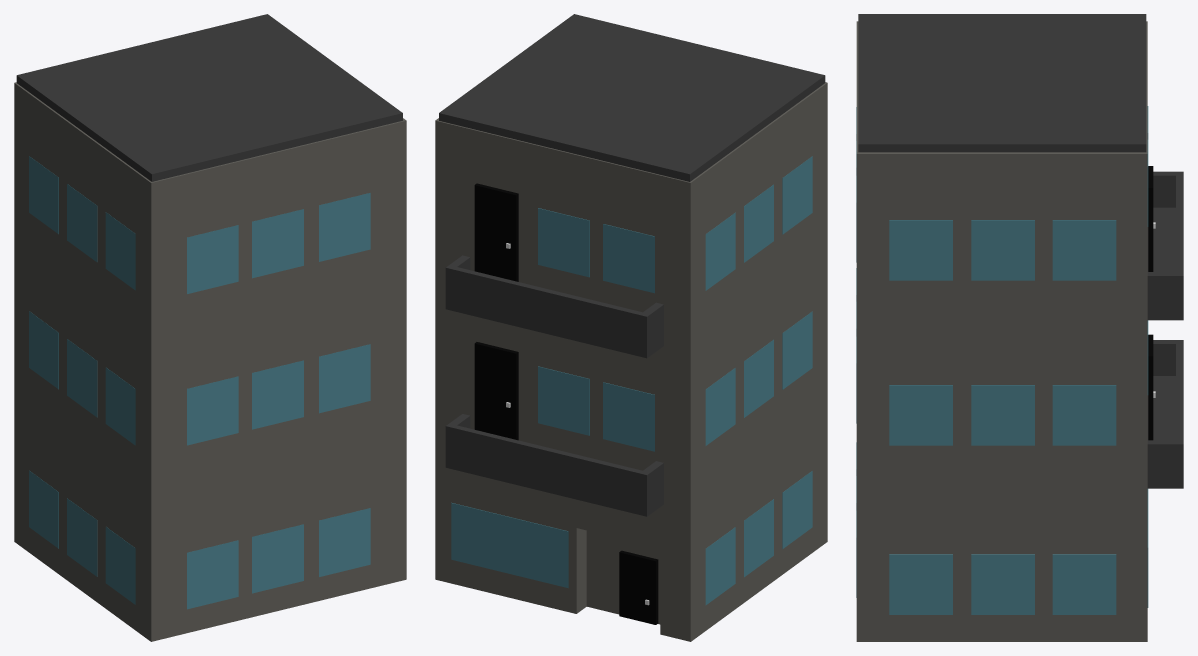
File: building1.glb
3 views of the same model, side by side, from view 1: azimuth 30°, elevation 25°; view 2: azimuth 150°, elevation 25°; view 3: azimuth 270°, elevation 25° (orthographic). The views are drawn at different scales.
Parts seen in each view (by area): view 1: Cube, Cube.041, Cube.034, Cube.036, Cube.033, Cube.029, Cube.030, Cube.031, Cube.032, Cube.037, Cube.035, Cube.013 (+8 smaller); view 2: Cube, Cube.041, Cube.002, Cube.008, Cube.010, Cube.003, Cube.007, Cube.004, Cube.009, Cube.001, Cube.006, Cube.005 (+9 smaller); view 3: Cube, Cube.041, Cube.008, Cube.002, Cube.022, Cube.023, Cube.028, Cube.020, Cube.021, Cube.024, Cube.025, Cube.026 (+3 smaller).
Part boxes in pixels (box(x1,y1,x2,y2)): Cube: box(14, 82, 406, 641); Cube.041: box(16, 14, 402, 181); Cube.034: box(187, 376, 238, 445); Cube.036: box(252, 524, 303, 593); Cube.033: box(252, 360, 303, 429); Cube.029: box(187, 225, 238, 293); Cube.030: box(252, 209, 303, 278); Cube.031: box(319, 193, 370, 261); Cube.032: box(319, 344, 370, 413); Cube.037: box(319, 508, 370, 576); Cube.035: box(187, 540, 238, 609); Cube.013: box(105, 212, 135, 290); Cube: box(435, 82, 827, 641); Cube.041: box(439, 14, 825, 181); Cube.002: box(445, 414, 663, 516); Cube.008: box(445, 255, 663, 358); Cube.010: box(451, 502, 568, 588); Cube.003: box(474, 342, 518, 440); Cube.007: box(474, 183, 518, 281); Cube.004: box(603, 382, 654, 451); Cube.009: box(538, 208, 589, 277); Cube.001: box(538, 366, 589, 435); Cube.006: box(603, 224, 654, 293); Cube.005: box(619, 550, 658, 624); Cube: box(856, 21, 1147, 641); Cube.041: box(858, 14, 1146, 152); Cube.008: box(1147, 171, 1183, 320); Cube.002: box(1147, 340, 1183, 488); Cube.022: box(1052, 554, 1116, 614); Cube.023: box(1052, 385, 1116, 445); Cube.028: box(1052, 220, 1116, 280); Cube.020: box(889, 554, 952, 614); Cube.021: box(971, 554, 1034, 614); Cube.024: box(971, 385, 1034, 445); Cube.025: box(889, 385, 952, 445); Cube.026: box(889, 220, 952, 280).
Size of the model in its own units: 3.55 by 6.17 by 3.69.
